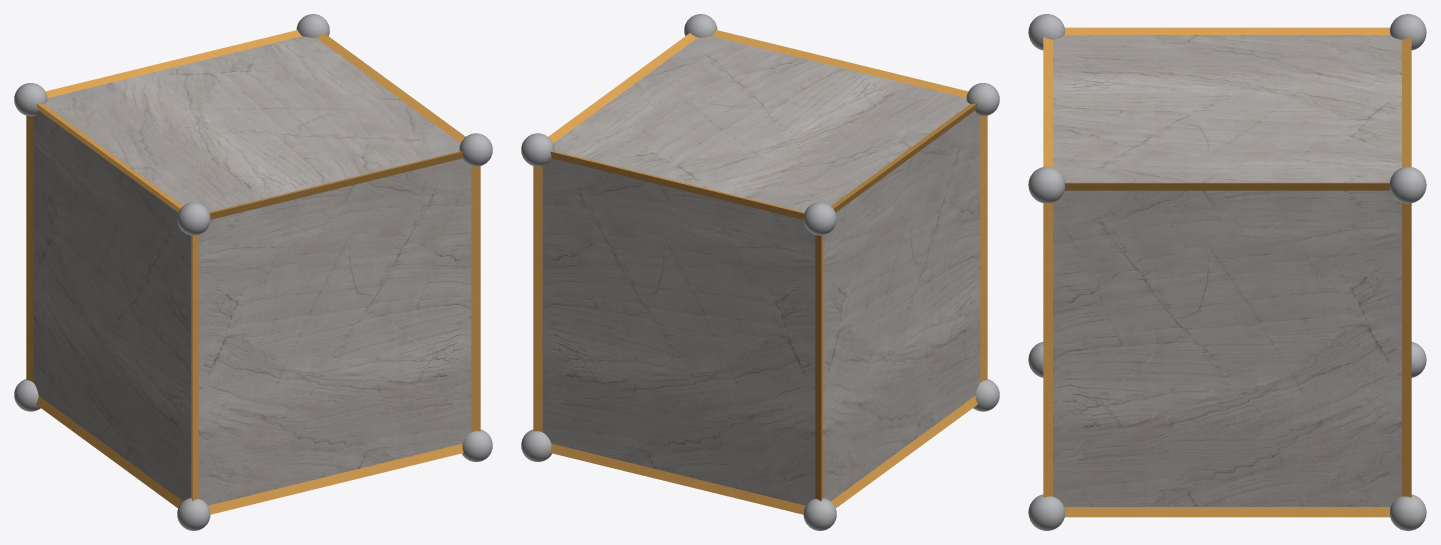
The model's file is cubo v2 unido.glb.
3 views of the same model, side by side, from view 1: azimuth 30°, elevation 25°; view 2: azimuth 150°, elevation 25°; view 3: azimuth 270°, elevation 25° (orthographic). The views are drawn at different scales.
Visible parts, largest first — view 1: Hexaedro.001; view 2: Hexaedro.001; view 3: Hexaedro.001.
Part boxes in pixels (<box>): Hexaedro.001: <box>14,14,492,530</box>; Hexaedro.001: <box>521,14,999,530</box>; Hexaedro.001: <box>1028,14,1426,530</box>.
Size of the model in its own units: 1.27 by 1.27 by 1.27.
Materials: 3 (3 with a texture image).
